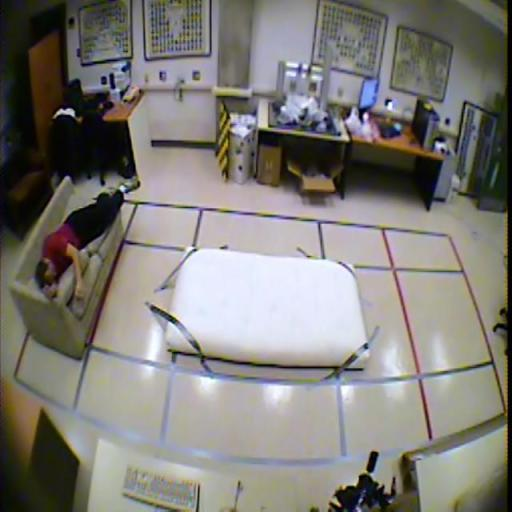Fall: (34, 175, 141, 300)
